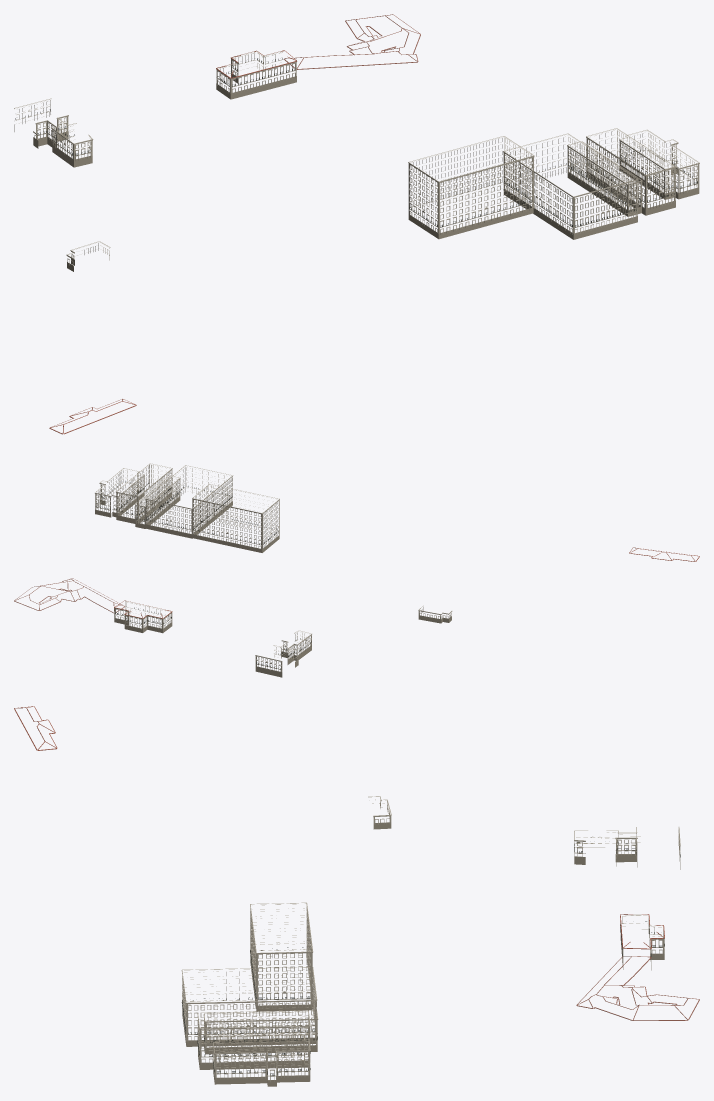
3 views of the same model, one above another, from view 1: azimuth 30°, elevation 25°; view 2: azimuth 150°, elevation 25°; view 3: azimuth 270°, elevation 25° (orthographic). The views are drawn at different scales.
Visible parts, largest first — view 1: detail; view 2: detail; view 3: detail.
Part boxes in pixels (box(x1,y1,x2,y2)): detail: box(14, 14, 699, 434); detail: box(14, 463, 699, 677); detail: box(14, 706, 699, 1086).
Bounding box in the file's own units: 366 × 27.89 × 287.
